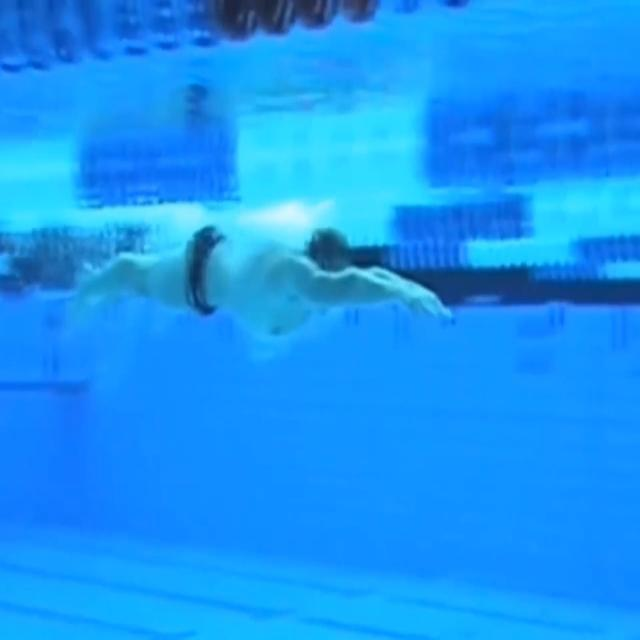Swimming: (70, 222, 454, 340)
